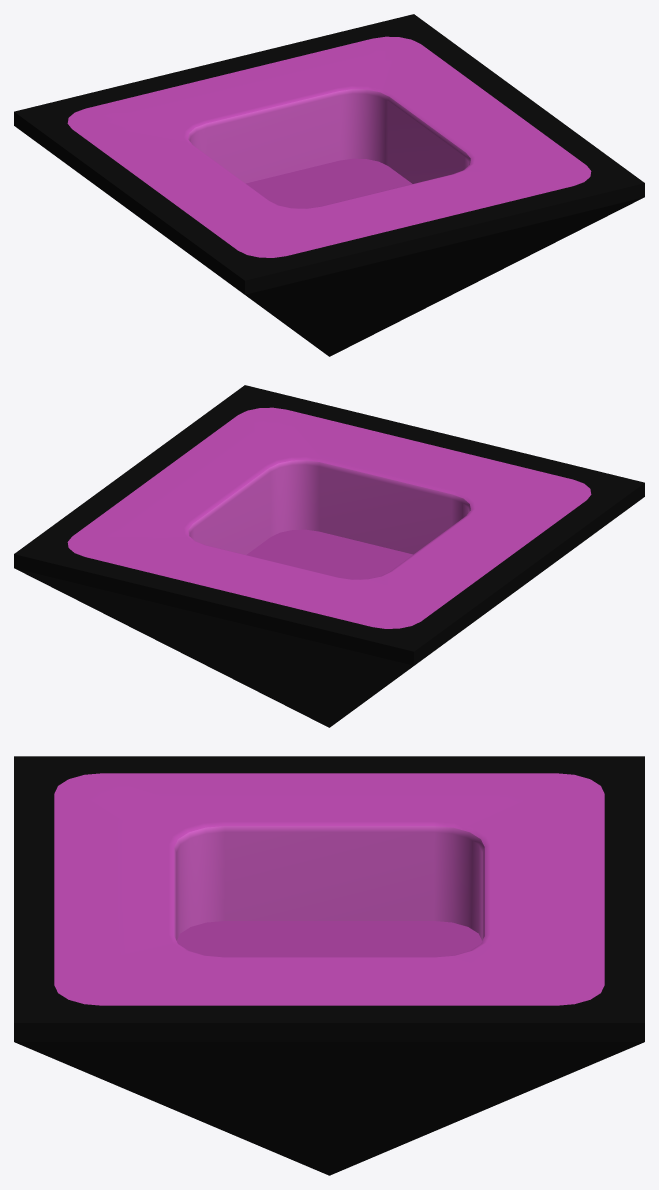
Rendered from Cell Purple.fbx.
3 renders of one model, top to bottom at view 1: azimuth 30°, elevation 25°; view 2: azimuth 150°, elevation 25°; view 3: azimuth 270°, elevation 25°, orthographic. The views are drawn at different scales.
Visible parts, largest first — view 1: Cell_Purple; view 2: Cell_Purple; view 3: Cell_Purple.
Boxes of the visible parts, x1,y1,x2,y2 form: Cell_Purple: [14, 14, 644, 356]; Cell_Purple: [14, 385, 644, 727]; Cell_Purple: [14, 756, 644, 1175].
Bounding box in the file's own units: 100 × 50.06 × 100.
